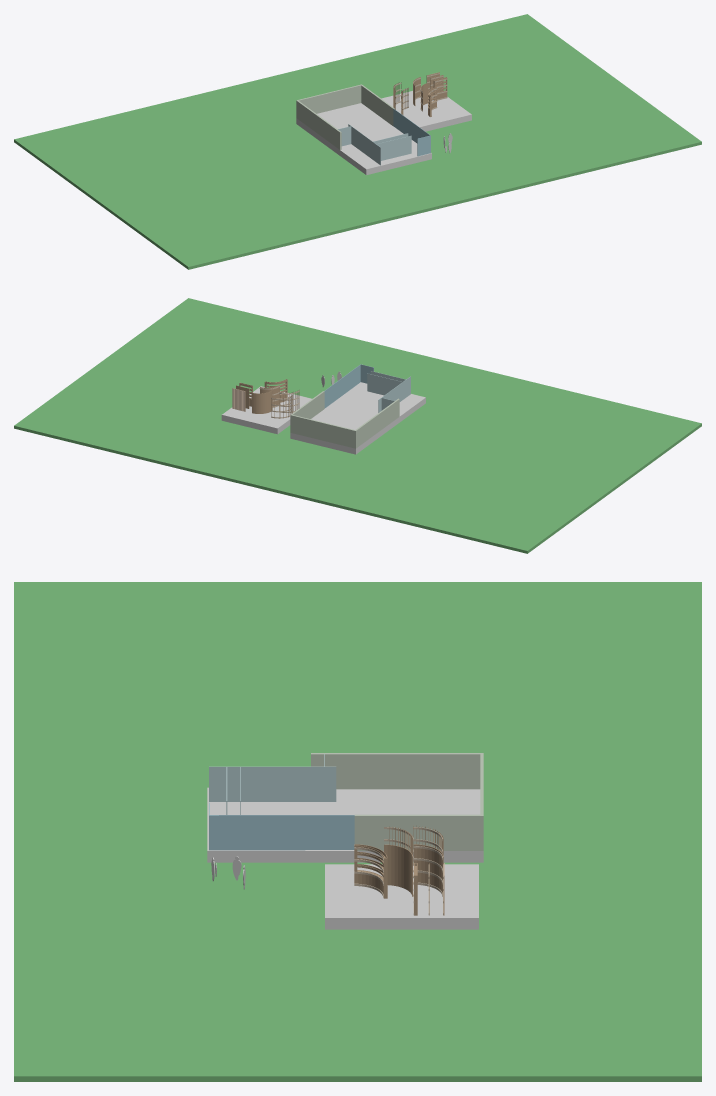
The model's file is Bentao.glb.
The picture shows the model from 3 angles, top to bottom: view 1: azimuth 30°, elevation 25°; view 2: azimuth 150°, elevation 25°; view 3: azimuth 270°, elevation 25°; orthographic projection. The views are drawn at different scales.
Visible parts, largest first — view 1: Mesh_Mesh_head_geo.001_lambert2SG.001; view 2: Mesh_Mesh_head_geo.001_lambert2SG.001; view 3: Mesh_Mesh_head_geo.001_lambert2SG.001.
Boxes of the visible parts, bbox=[...] form: Mesh_Mesh_head_geo.001_lambert2SG.001: bbox=[14, 14, 701, 269]; Mesh_Mesh_head_geo.001_lambert2SG.001: bbox=[14, 298, 701, 553]; Mesh_Mesh_head_geo.001_lambert2SG.001: bbox=[14, 582, 701, 1081].
Bounding box in the file's own units: 79.04 × 4.4 × 46.51.
